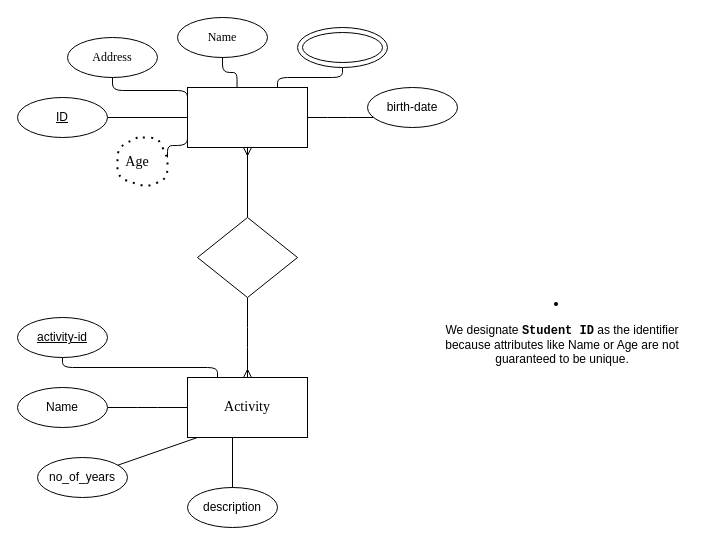
Some shapes in this 705 by 545 pixel diagram are drawn without their labels. The shapes that lost their labels are listed below. From the top down, each one's centre as x and y in pixels, then its label:
point 342,47: Phone
point 247,117: Student
point 247,257: particapatesin
